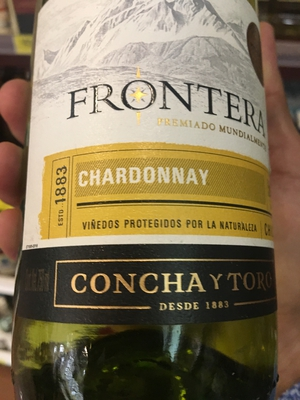frontera chardonnay: (29, 2, 284, 400)
